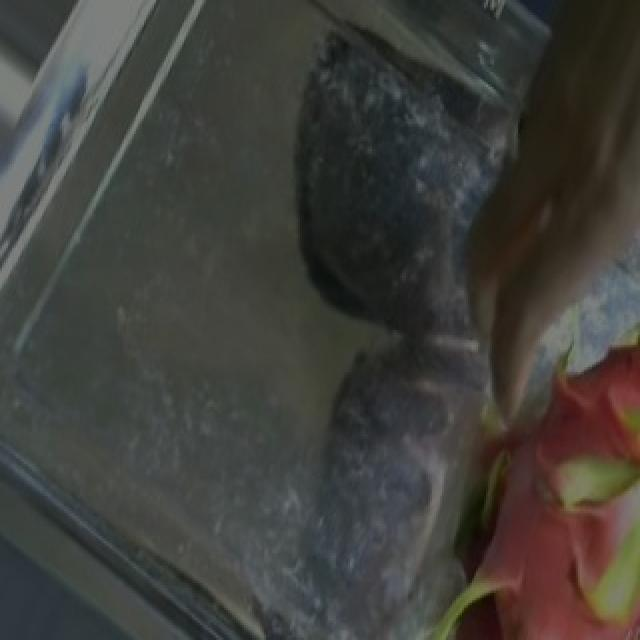fruit: (314, 263, 640, 640)
